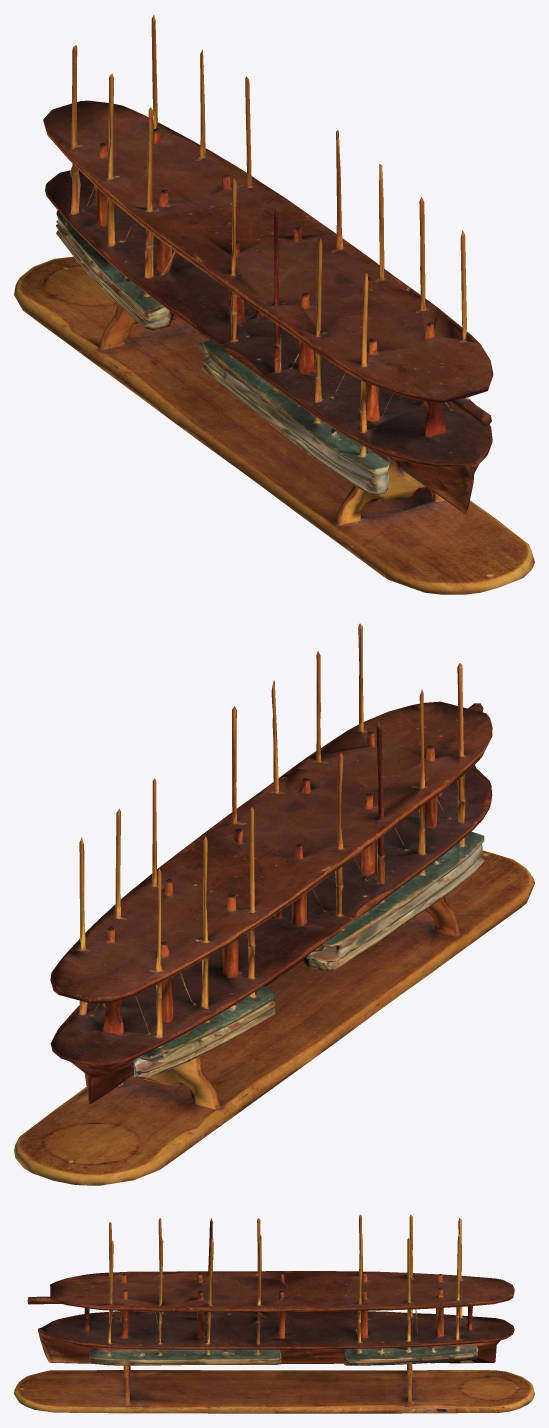
The model's file is lincoln-patent-model.glb.
3 renders of one model, top to bottom at view 1: azimuth 30°, elevation 25°; view 2: azimuth 150°, elevation 25°; view 3: azimuth 270°, elevation 25°, orthographic. The views are drawn at different scales.
Size of the model in its own units: 0.1238 by 0.252 by 0.6842.
1 material, 1 textured.
